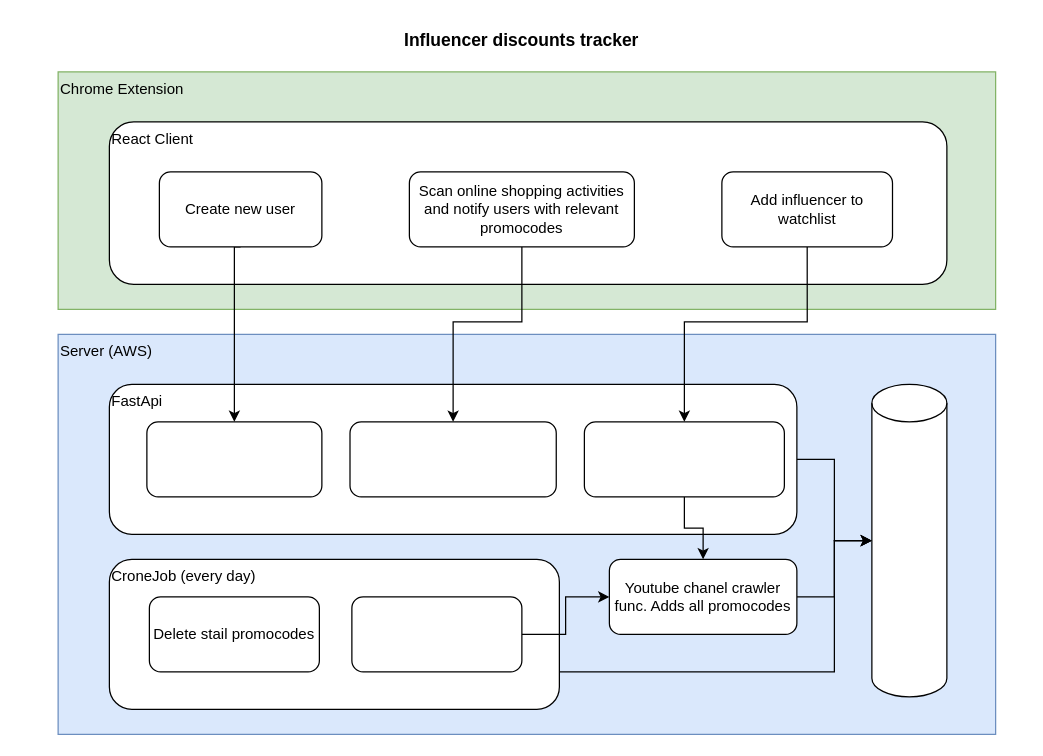
Some shapes in this 1043 by 756 pixel diagram are drawn without their labels. The shapes that lost their labels are listed below. From the top down, each one's centre as x and y in pixels, then its label:
At point (234, 459): "Add new user to db".
At point (452, 459): "Find relevant promocodes for shopping website or find similar ones using BERT".
At point (683, 459): "Find or add new influencer and trigger a crawler".
At point (909, 540): "Neo4j".
At point (436, 634): "Add new promocodes".
